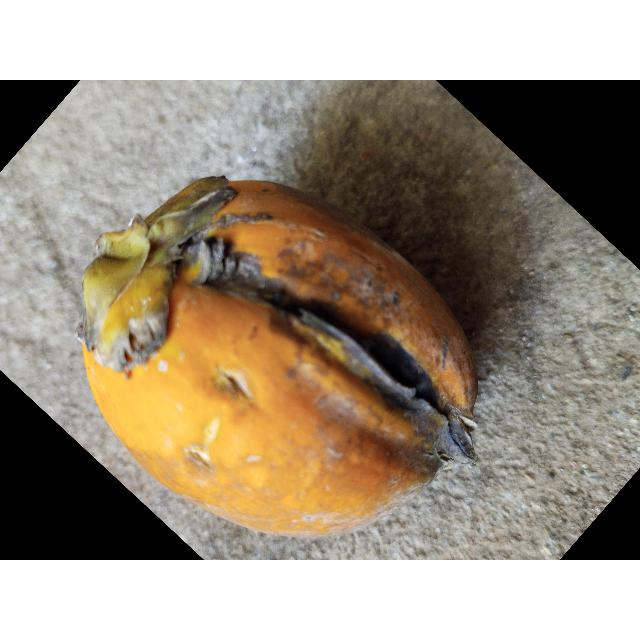damaged: (38, 172, 479, 540)
